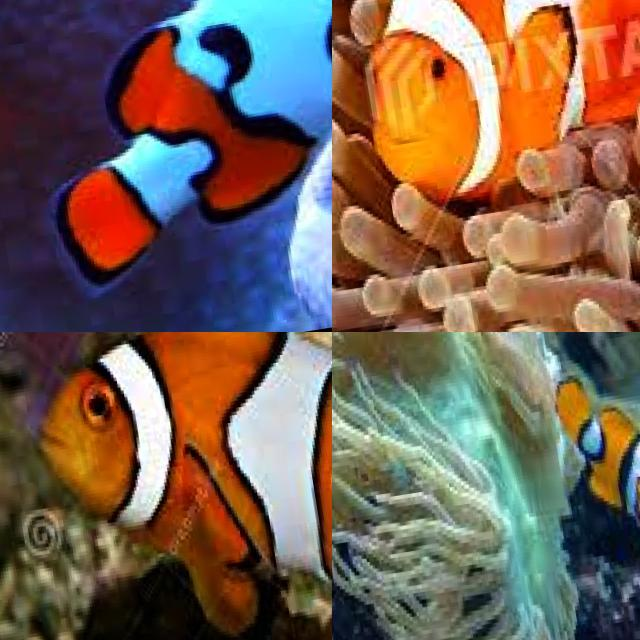Amphiprion-percula: (0, 0, 332, 315), (12, 332, 332, 640), (332, 0, 640, 293), (0, 0, 332, 129), (541, 343, 640, 579)
